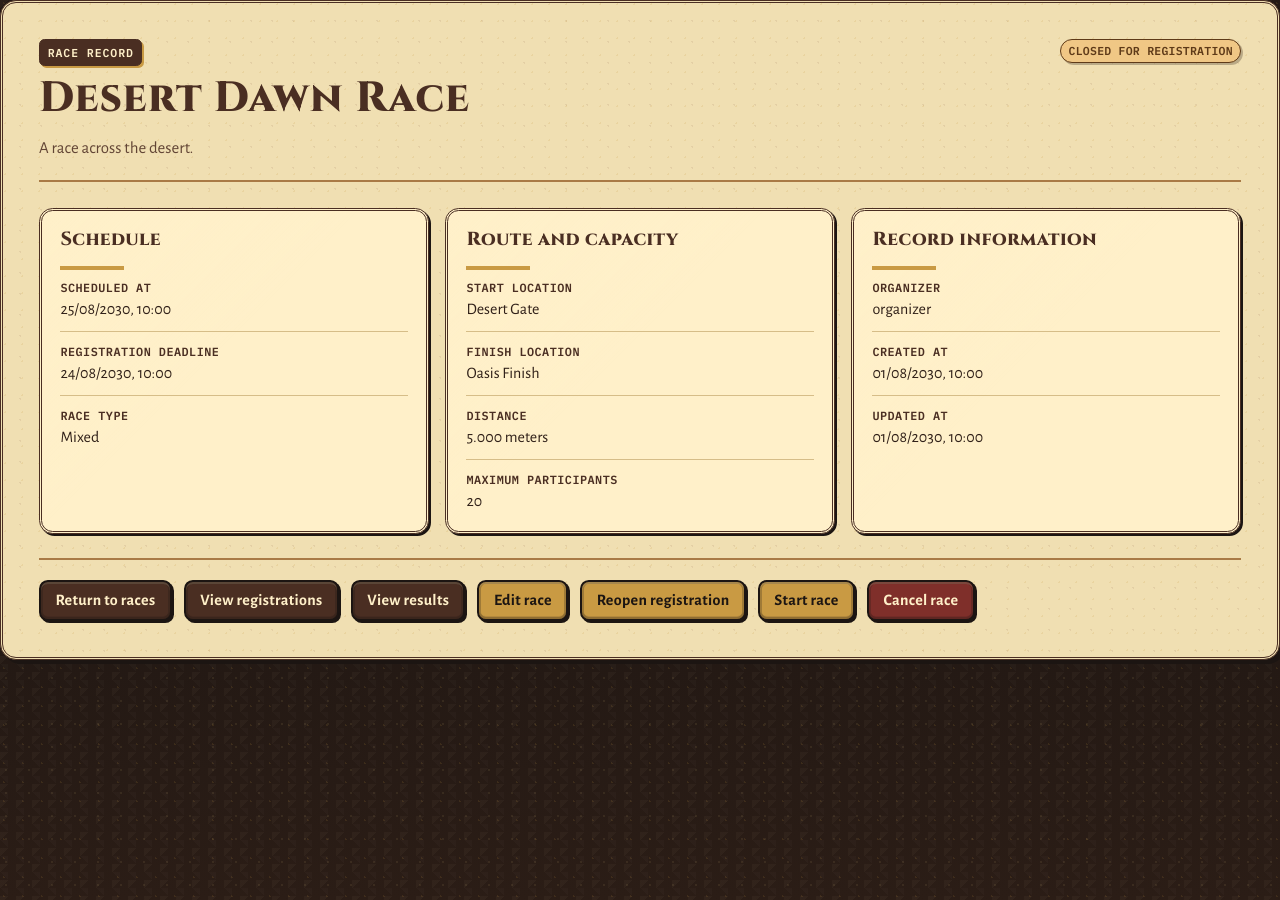
Test: RaceDetailPage › reopens registration after confirmation and shows close action
Click the button "Reopen registration".
click(663, 600)  # box [580,580,746,621]
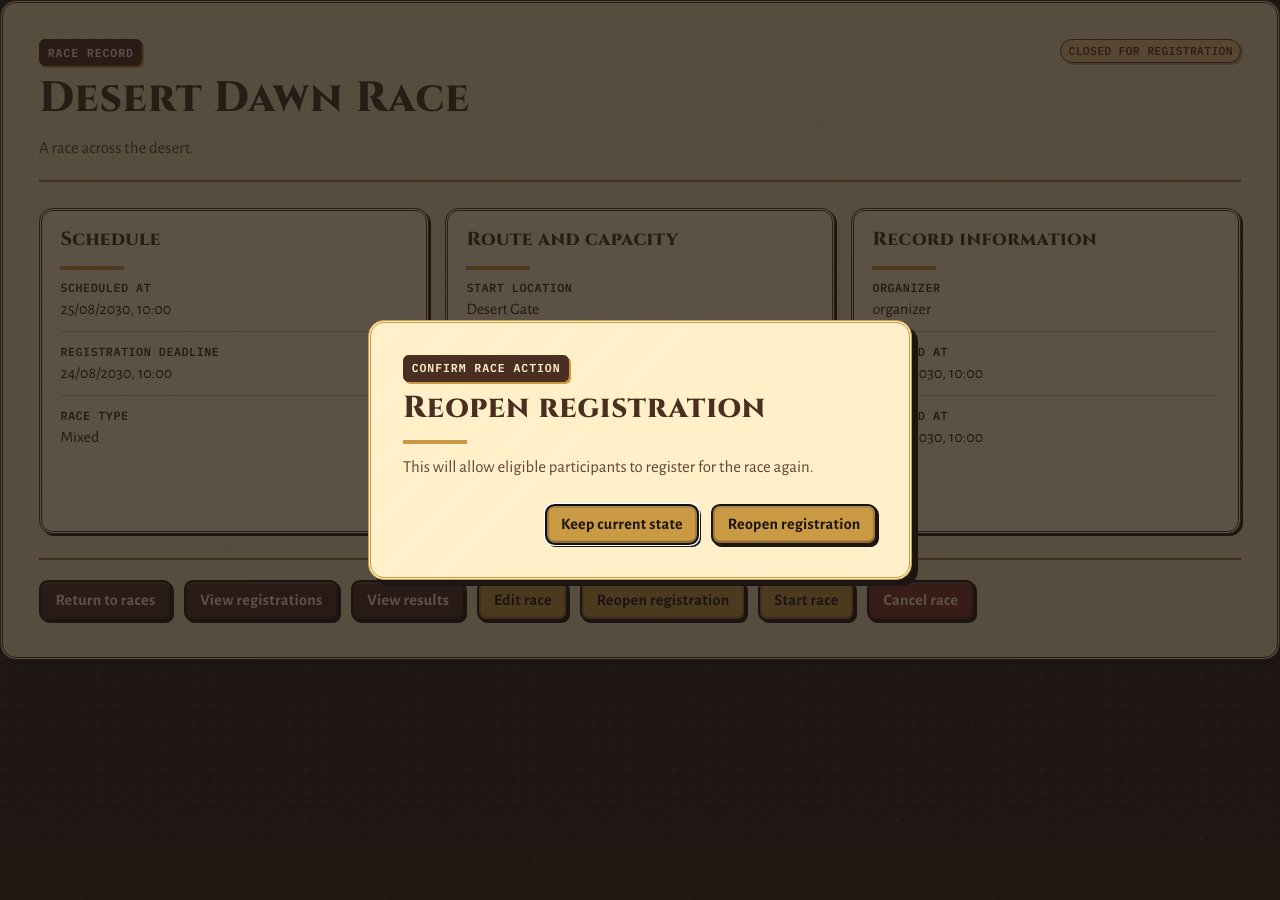
Check: the text "This will allow eligible participants to register for the race again." is shown, box [403,454,877,480]
Click the button "Reopen registration".
click(794, 525)  # box [711,504,877,545]
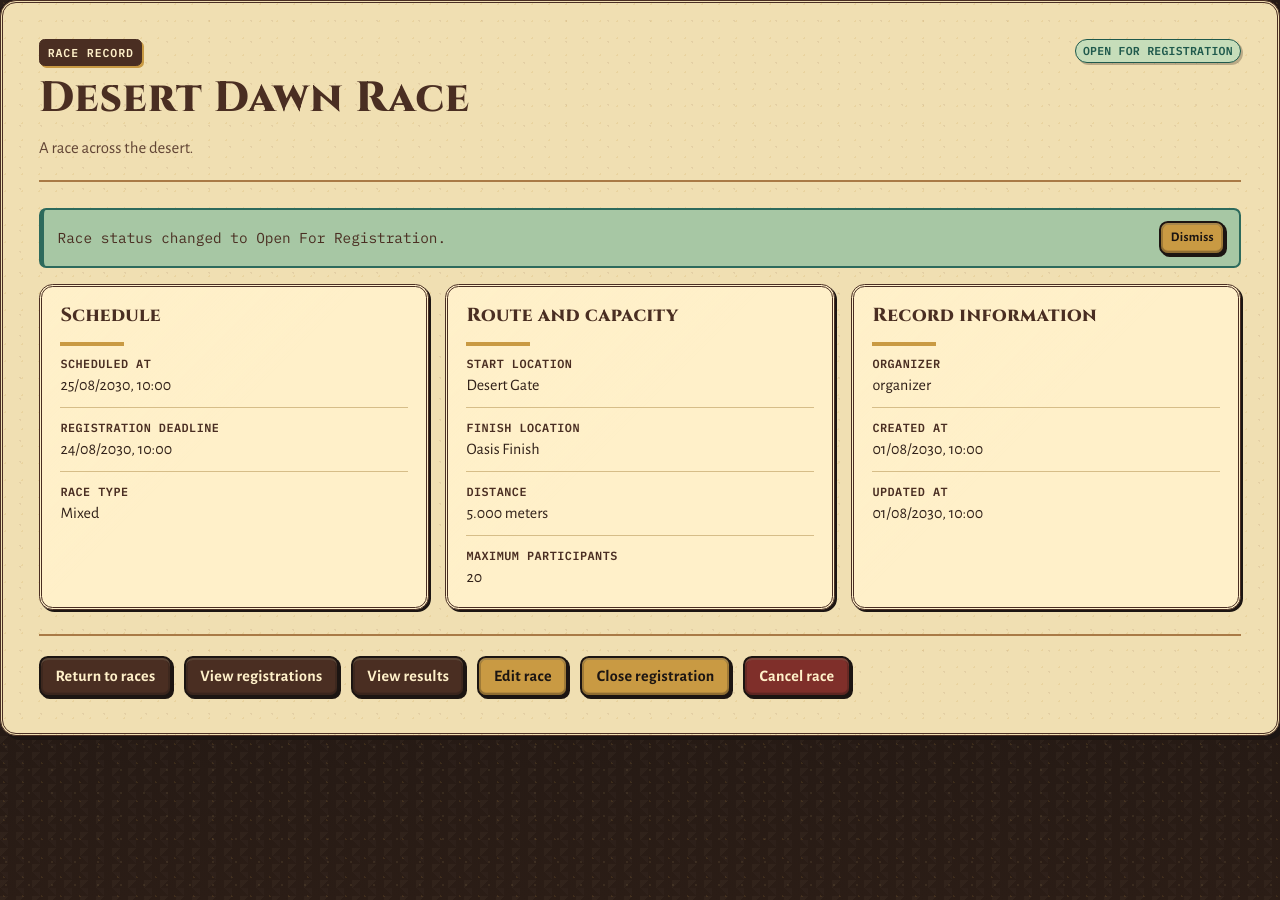
Check: the text "Race status changed to Open For Registration." is shown, box [58,228,446,247]
Check: the button "Close registration" is shown, box [580,656,731,697]
